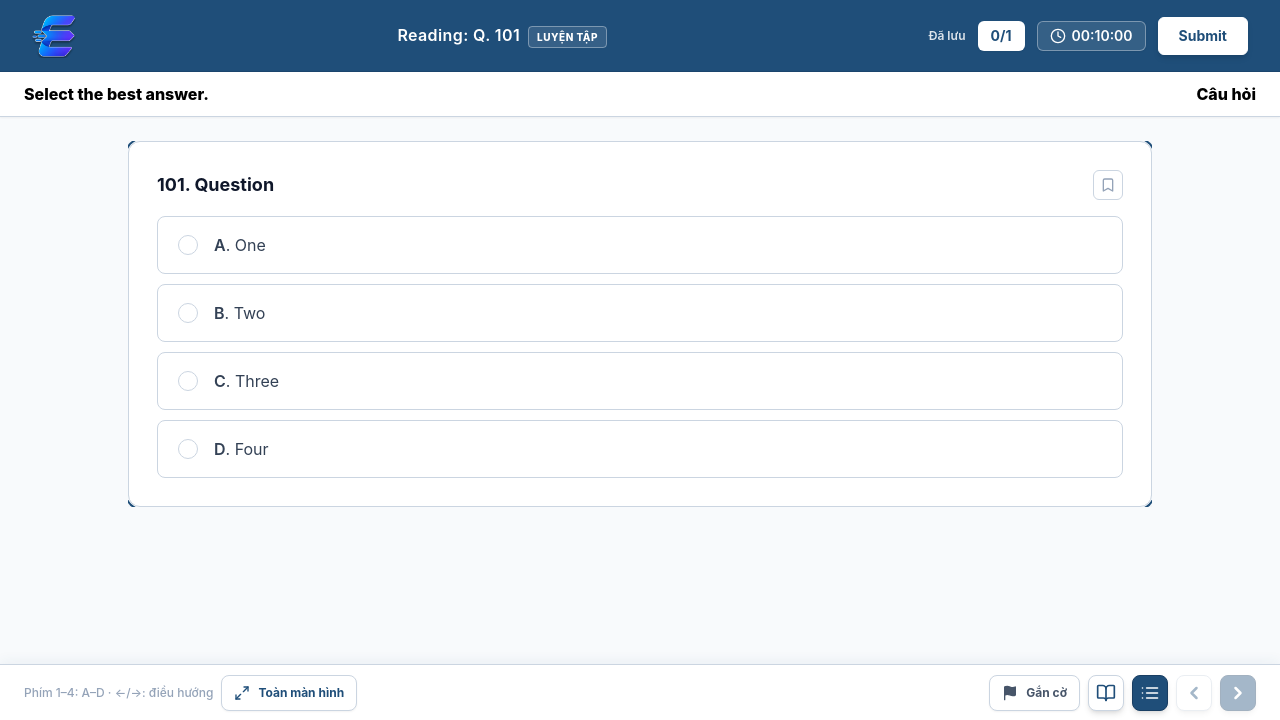
Test: quiz submission acknowledgement › keeps the active attempt when the server does not acknowledge submit
Click the button "Submit": (1203,36) [1158,16,1248,54]
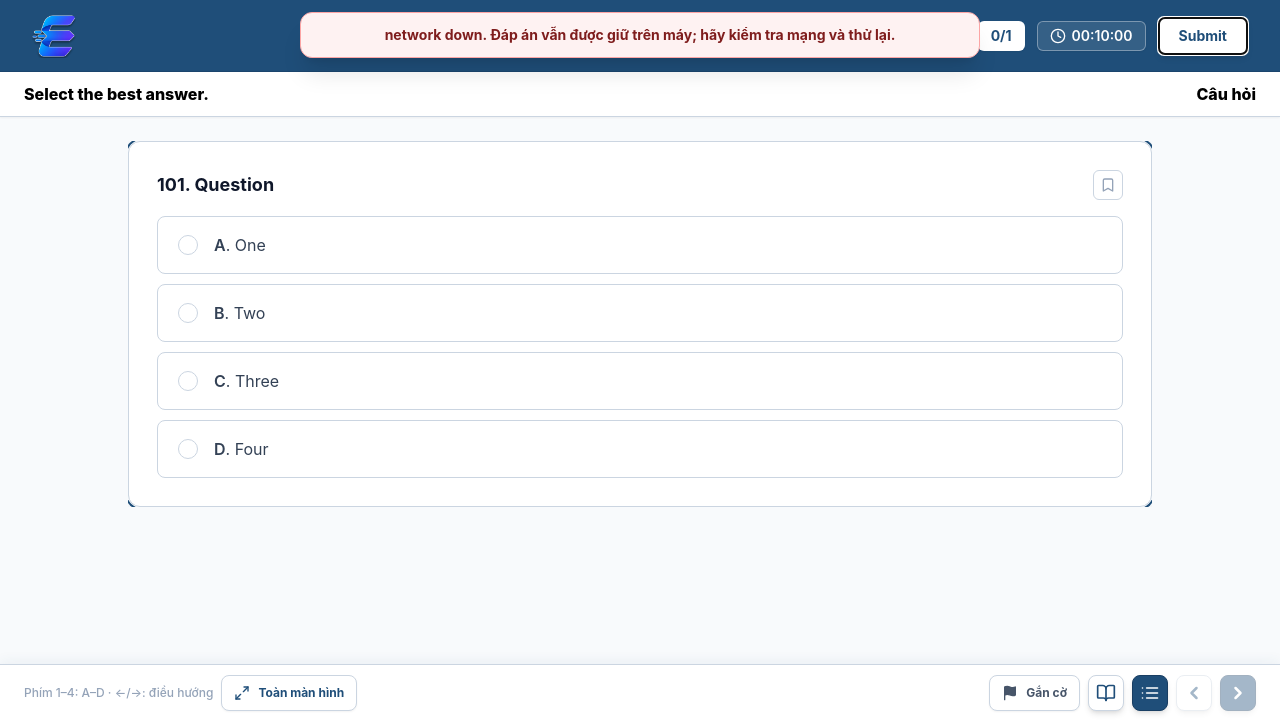
Result: the message shows "Đáp án vẫn được giữ trên máy" at [385,26,895,43]
